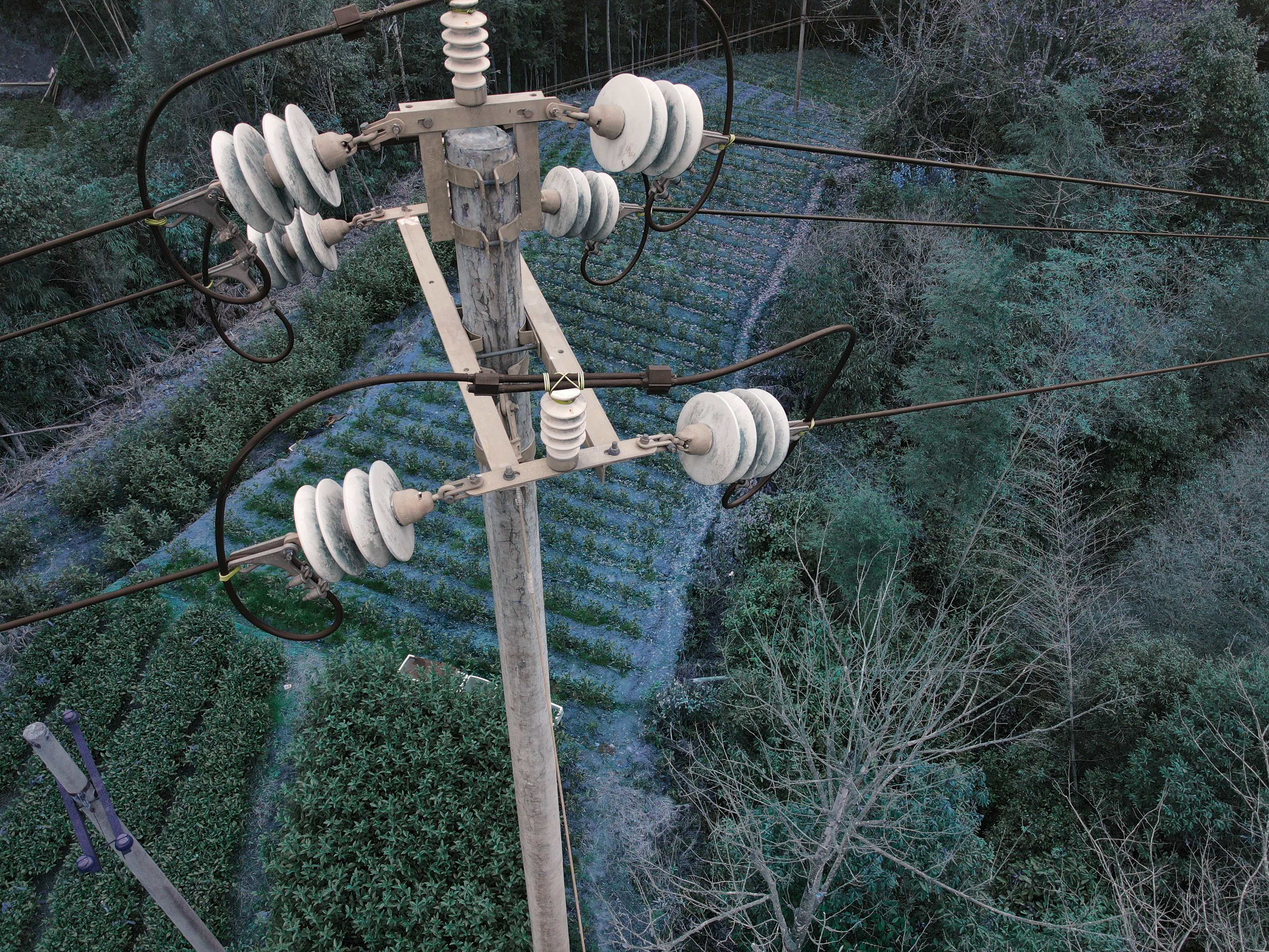severe_soiling_no_discharge_whole: (209, 102, 355, 233), (290, 456, 437, 580), (586, 72, 705, 179), (673, 384, 791, 485), (242, 201, 354, 291), (537, 167, 622, 245), (438, 1, 496, 109), (536, 384, 591, 472)
